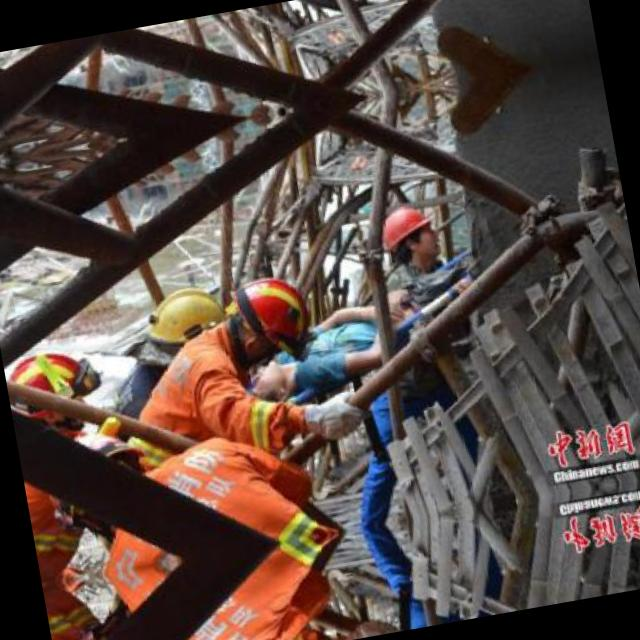helmet: (3, 338, 109, 445), (222, 268, 318, 361), (134, 275, 234, 360), (372, 197, 443, 274)
